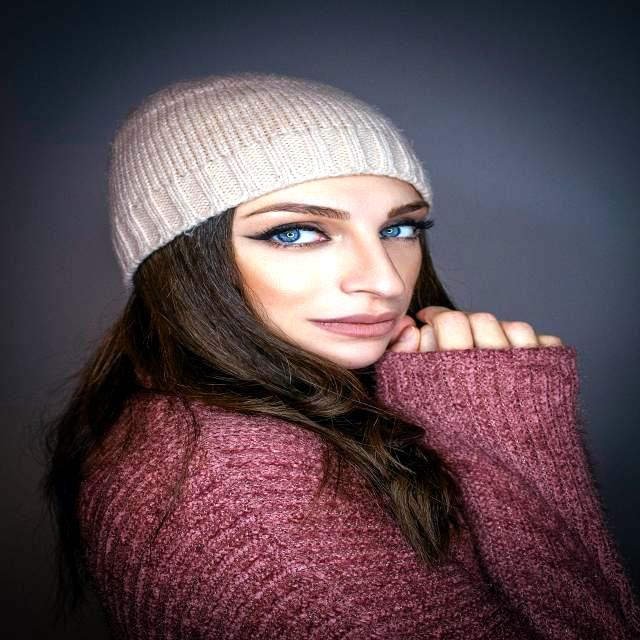no_hard_hat: (109, 74, 431, 280)
person: (49, 76, 640, 639)
